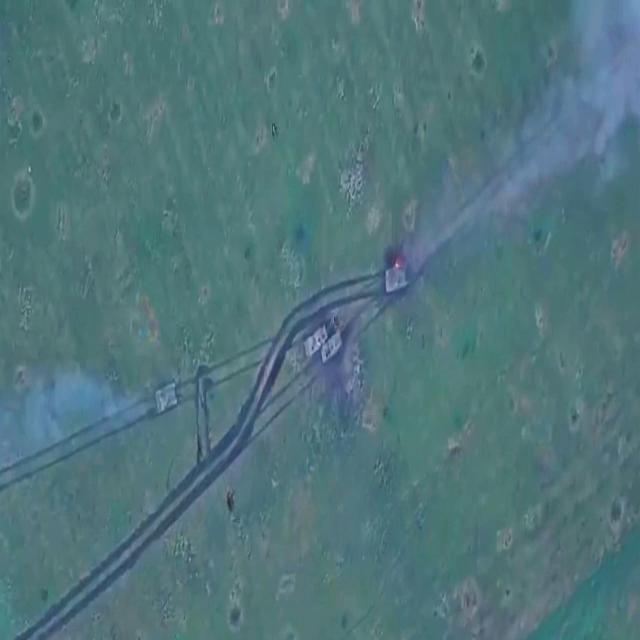AIFV: (319, 331, 345, 368), (305, 325, 329, 359)
MBT: (385, 257, 415, 297), (155, 379, 181, 418)
